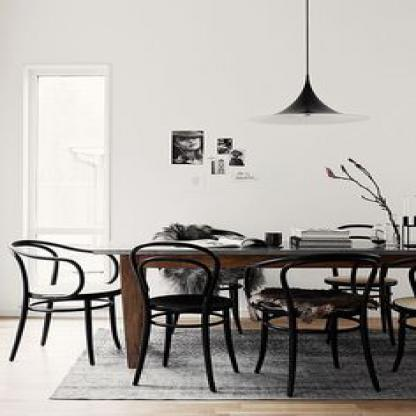chair: (125, 237, 245, 399), (252, 243, 380, 393), (10, 235, 126, 352), (164, 217, 248, 330), (327, 219, 396, 344)
light: (239, 0, 379, 141)
table: (84, 242, 416, 374)
